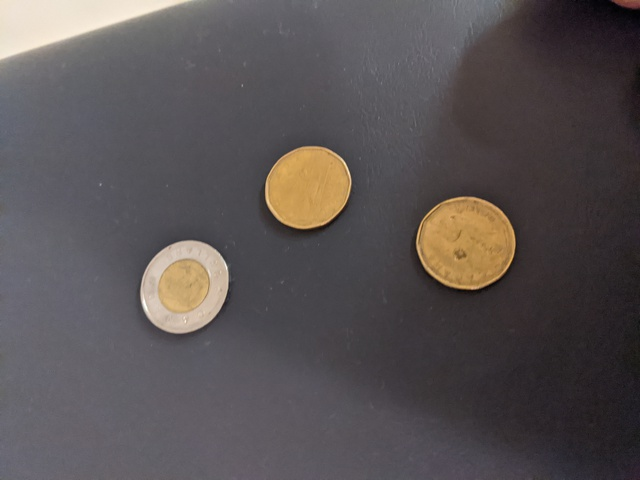loonie: (413, 182, 520, 293), (260, 144, 370, 236)
twonie: (137, 220, 232, 345)
